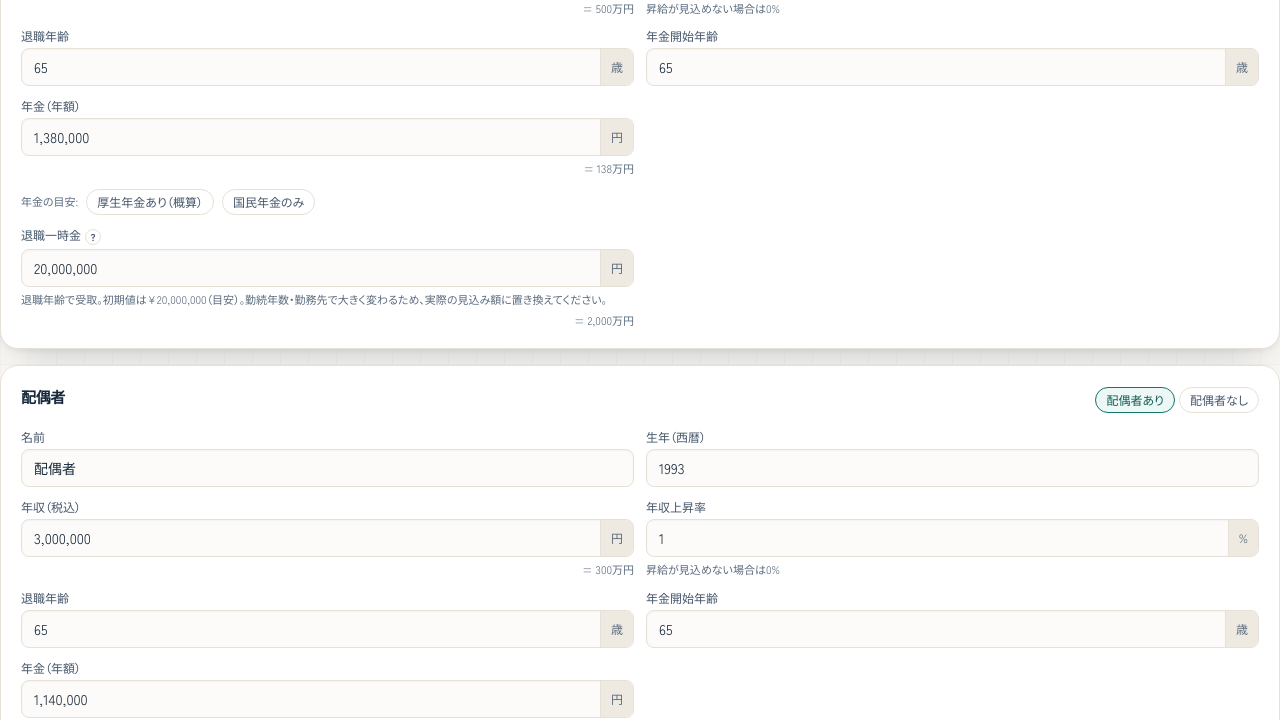
HouseholdForm — 配偶者の有無（あり／なしの2択） › 「なし」を選ぶと配偶者が外れ、「なし」がハイライトされる
(page scrolled)
Click the radio button labelled "配偶者なし": (1219, 400) 1179,387 -> 1259,413
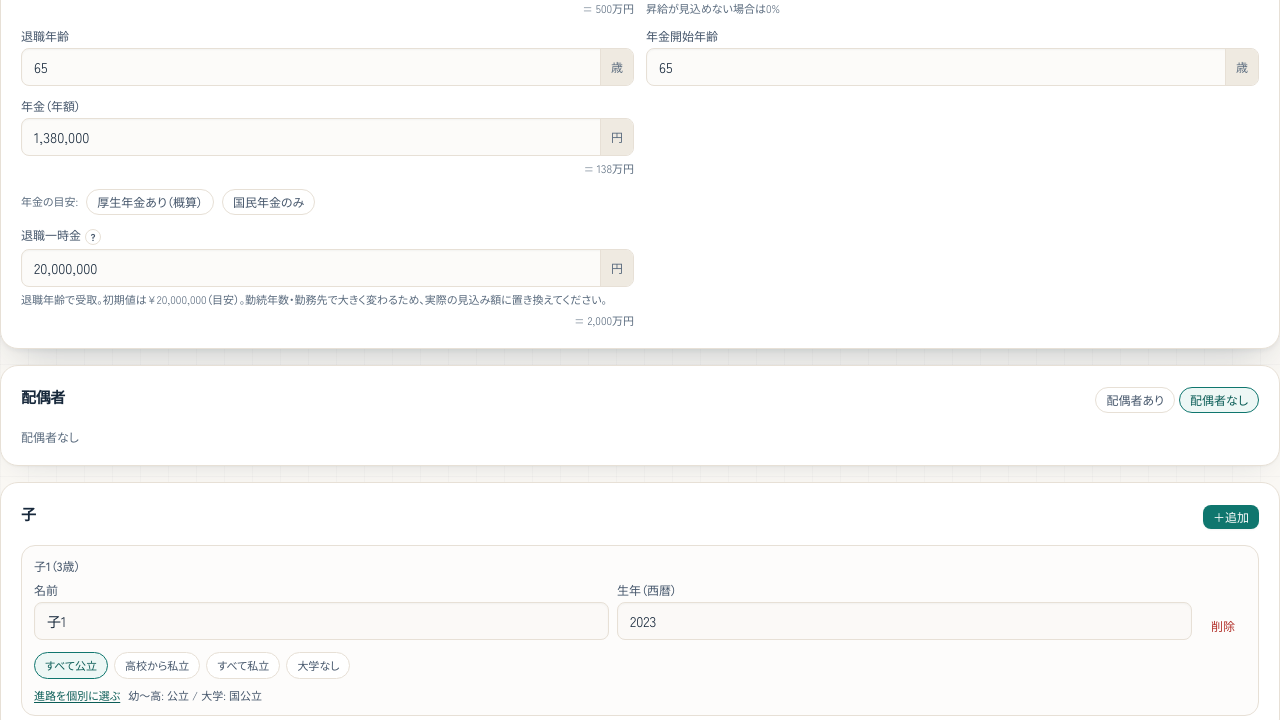
Expected: the radio button labelled "配偶者なし" is checked, 1179,387 -> 1259,413
Expected: the radio button labelled "配偶者あり" is not checked, 1095,387 -> 1175,413
